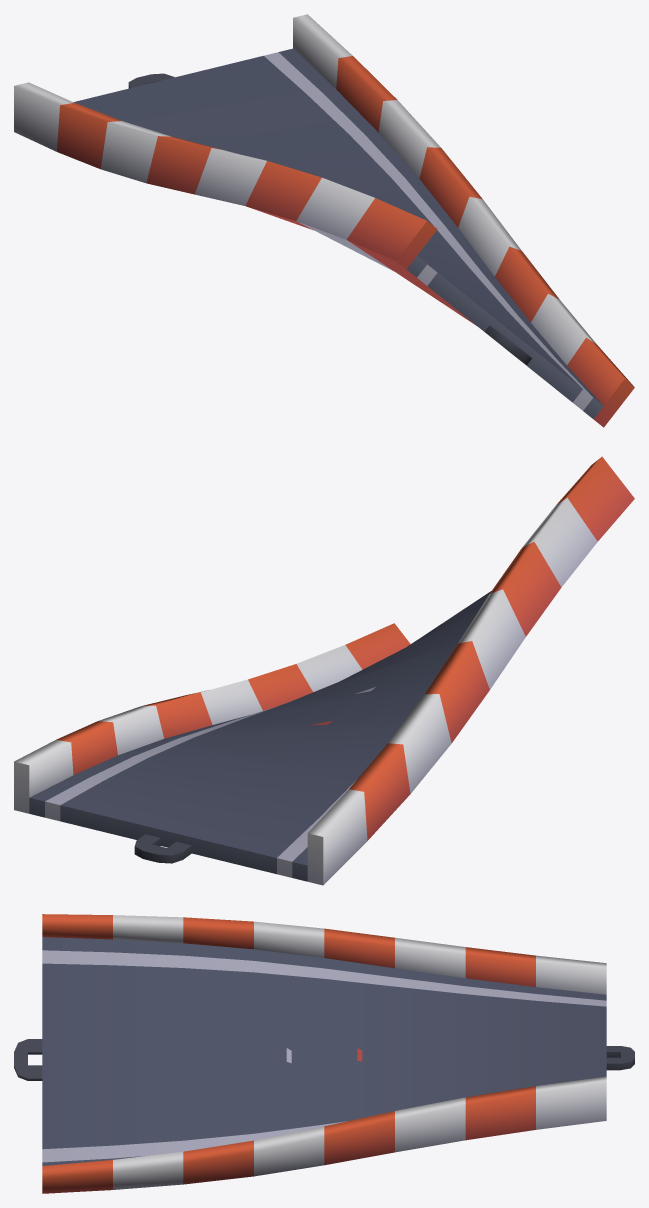
The model's file is track-road-wide-straight-skew-left.glb.
3 renders of one model, top to bottom at view 1: azimuth 30°, elevation 25°; view 2: azimuth 150°, elevation 25°; view 3: azimuth 270°, elevation 25°, orthographic. The views are drawn at different scales.
Parts seen in each view (by area): view 1: track-road-wide-straight-skew-left; view 2: track-road-wide-straight-skew-left; view 3: track-road-wide-straight-skew-left.
Boxes of the visible parts, bbox=[...] form: track-road-wide-straight-skew-left: bbox=[14, 14, 634, 427]; track-road-wide-straight-skew-left: bbox=[14, 456, 634, 885]; track-road-wide-straight-skew-left: bbox=[14, 914, 634, 1193].
Size of the model in its own units: 2.04 by 1.63 by 4.4.
